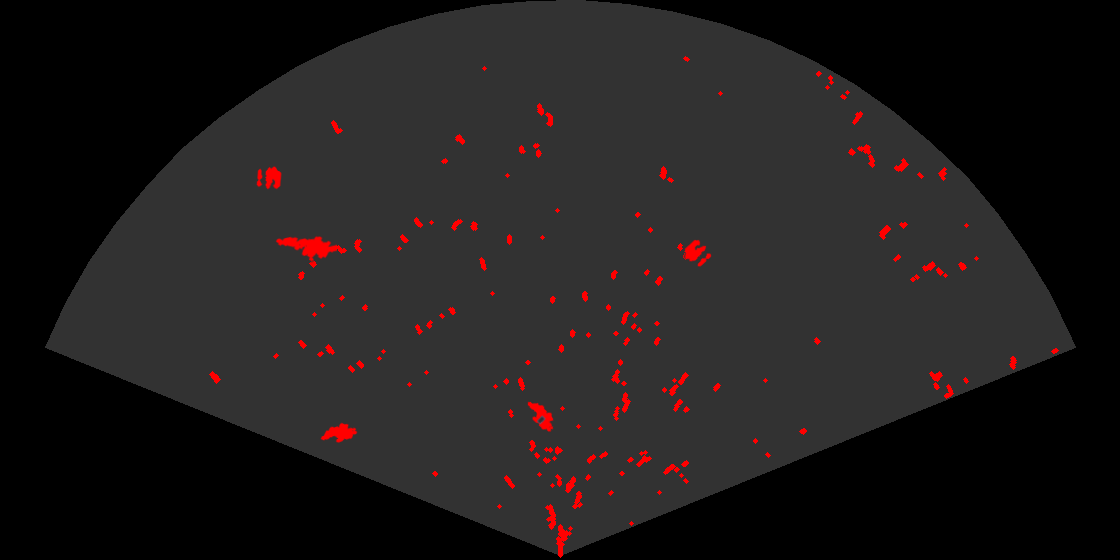AUV: (526, 400, 555, 434), (319, 421, 359, 444)
ball: (683, 238, 713, 268), (255, 165, 283, 191)
frogman: (274, 234, 337, 263)
